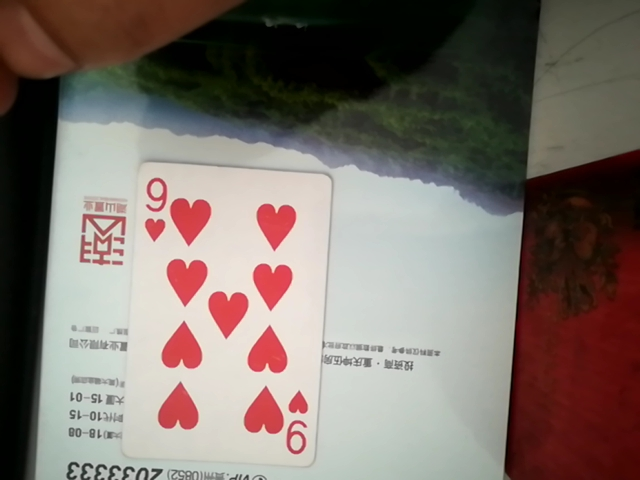hx 9: (110, 158, 325, 471)
